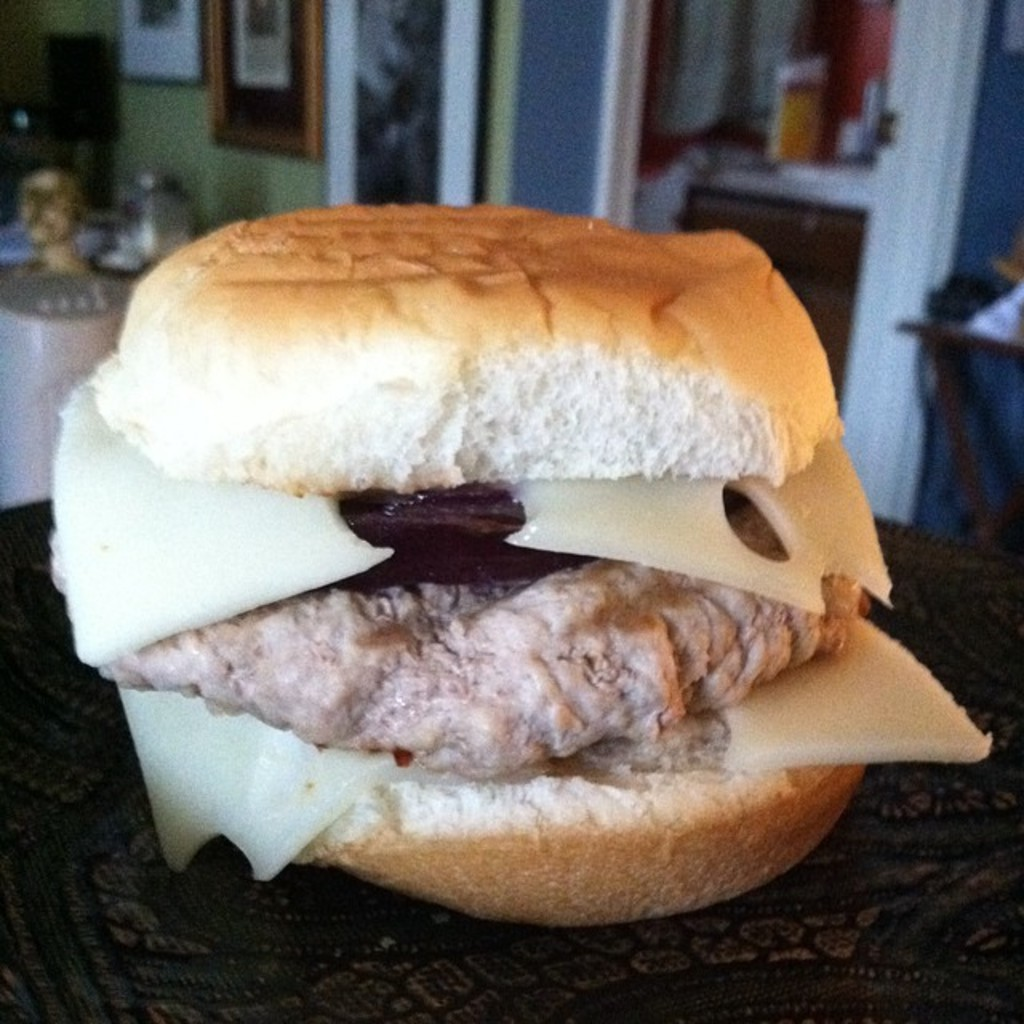sandwich: (42, 187, 995, 933)
